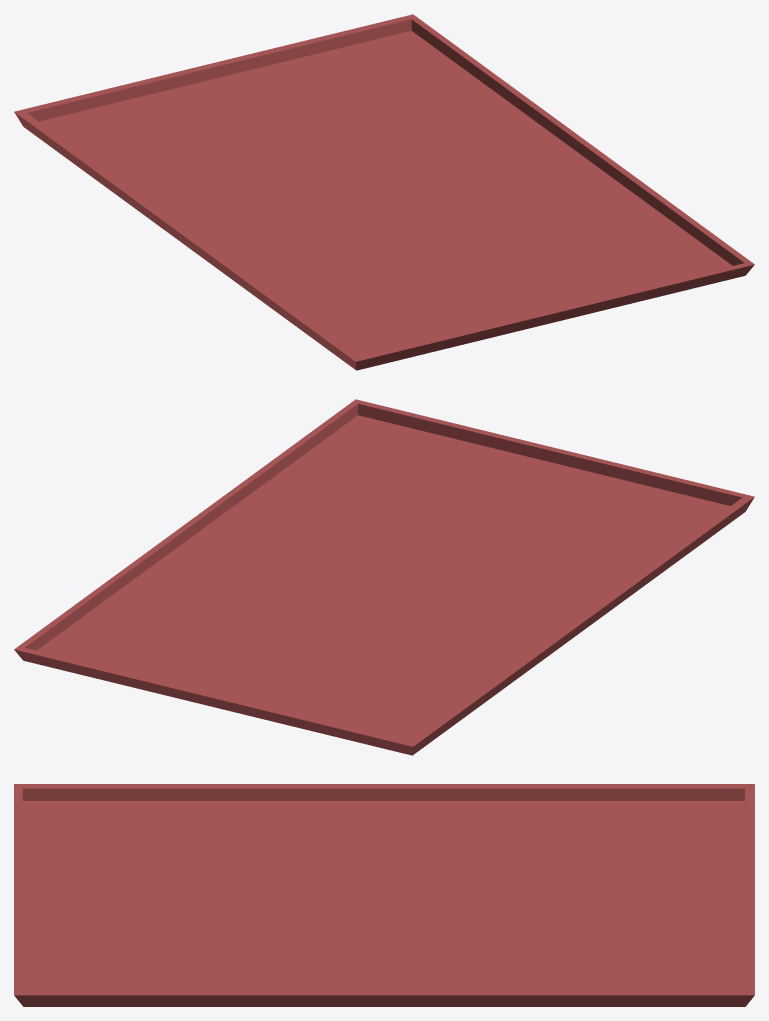
File: Plateau_Rouge.fbx
3 views of the same model, one above another, from view 1: azimuth 30°, elevation 25°; view 2: azimuth 150°, elevation 25°; view 3: azimuth 270°, elevation 25° (orthographic). The views are drawn at different scales.
Parts seen in each view (by area): view 1: Plateau_Rouge; view 2: Plateau_Rouge; view 3: Plateau_Rouge.
Boxes of the visible parts, left/top/right/bottom form: Plateau_Rouge: left=14, top=14, right=754, bottom=370; Plateau_Rouge: left=14, top=399, right=754, bottom=755; Plateau_Rouge: left=14, top=784, right=754, bottom=1006.
Size of the model in its own units: 1.9 by 0.0599 by 2.82.
